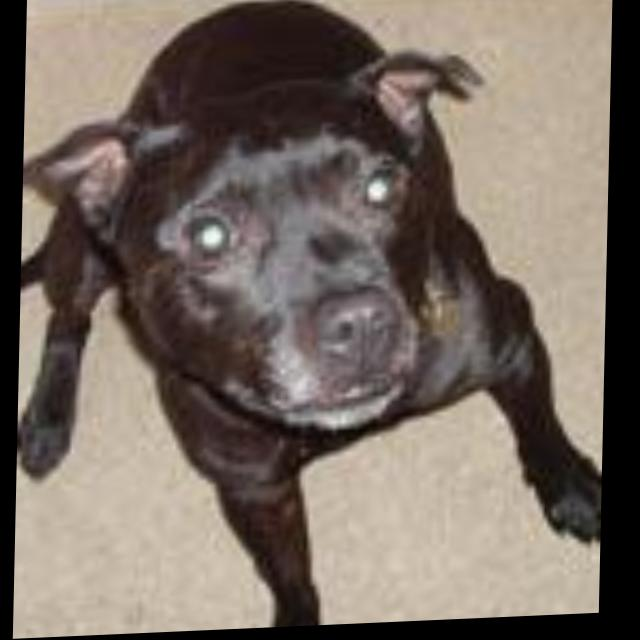staffford: (17, 1, 614, 640)
